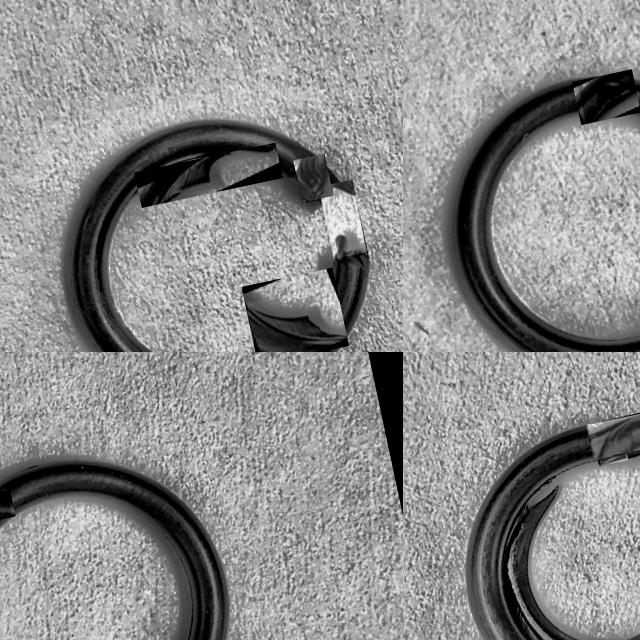切割缺陷: (586, 75, 636, 123), (589, 414, 640, 457), (297, 157, 328, 199), (0, 488, 6, 519)
挤压缺陷: (325, 185, 362, 258)
裂纹: (500, 485, 583, 640), (159, 144, 274, 204), (246, 303, 347, 340), (600, 453, 626, 466)
